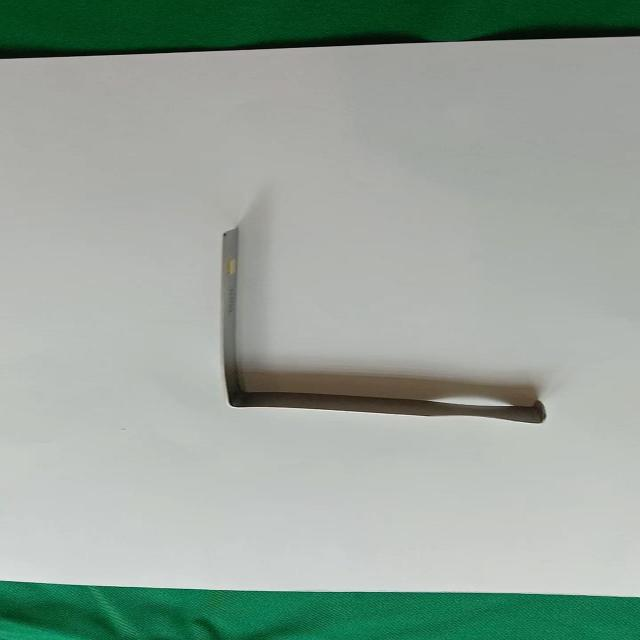AustinRetractor: (210, 220, 563, 432)
